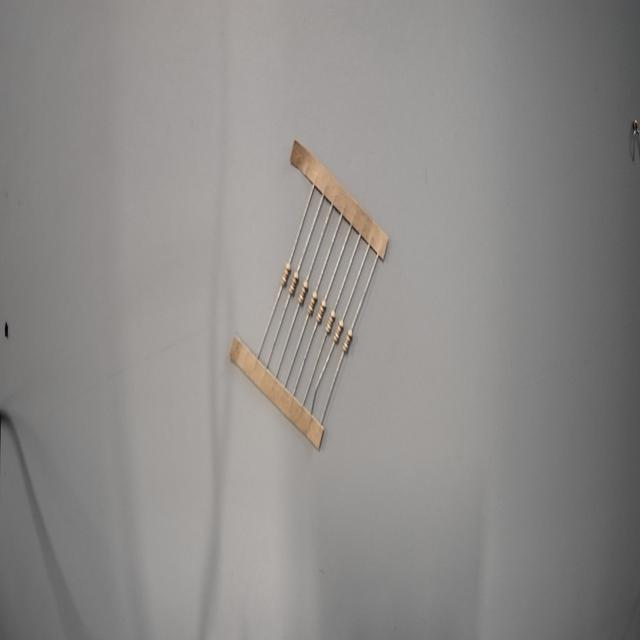resistor: (338, 322, 358, 373), (305, 280, 319, 330), (325, 300, 338, 351), (276, 248, 290, 295), (296, 268, 308, 313)
